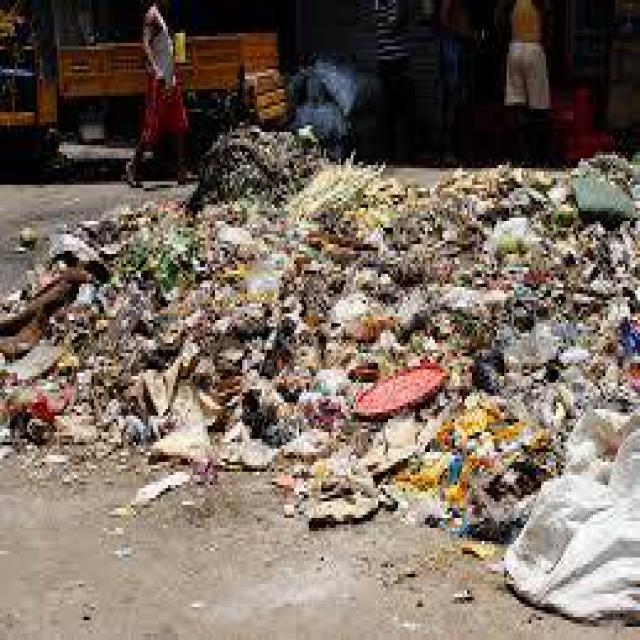garbage: (5, 112, 637, 630)
